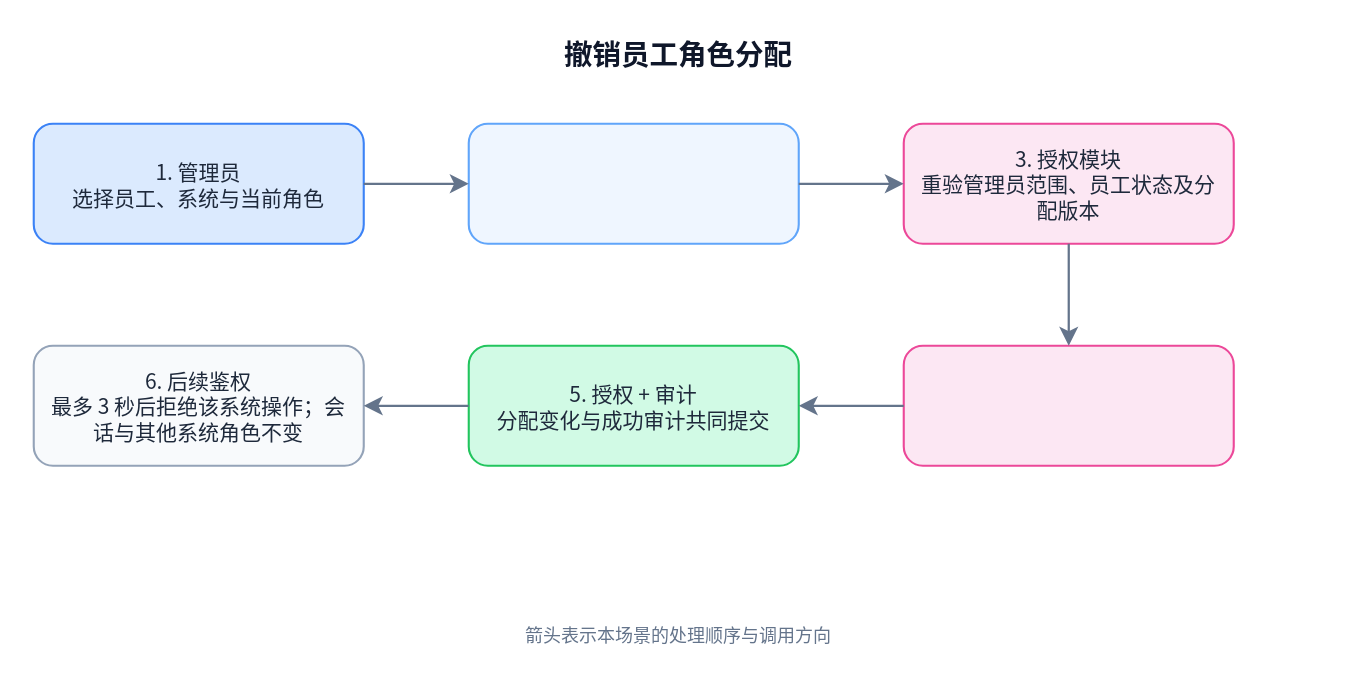
The diagram is 1356 pixels wide and 681 high, and some of its shapes have lost their labels. Here are the shapes that lost their labels. From the top down, the box of each, then its label:
(467, 122, 799, 244): 2. 管理后台 提交已读取版本和撤权范围
(902, 344, 1234, 466): 4. 授权模块 同事务将分配标记撤销
